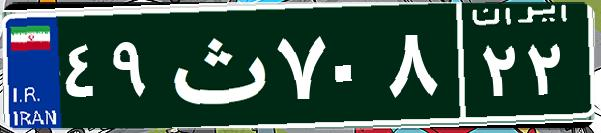0: (330, 28, 385, 110)
2: (475, 38, 525, 113), (525, 38, 570, 115)
4: (57, 26, 110, 107)
7: (273, 28, 330, 110)
8: (385, 28, 445, 110)
9: (110, 28, 158, 105)
ث: (158, 15, 273, 115)
